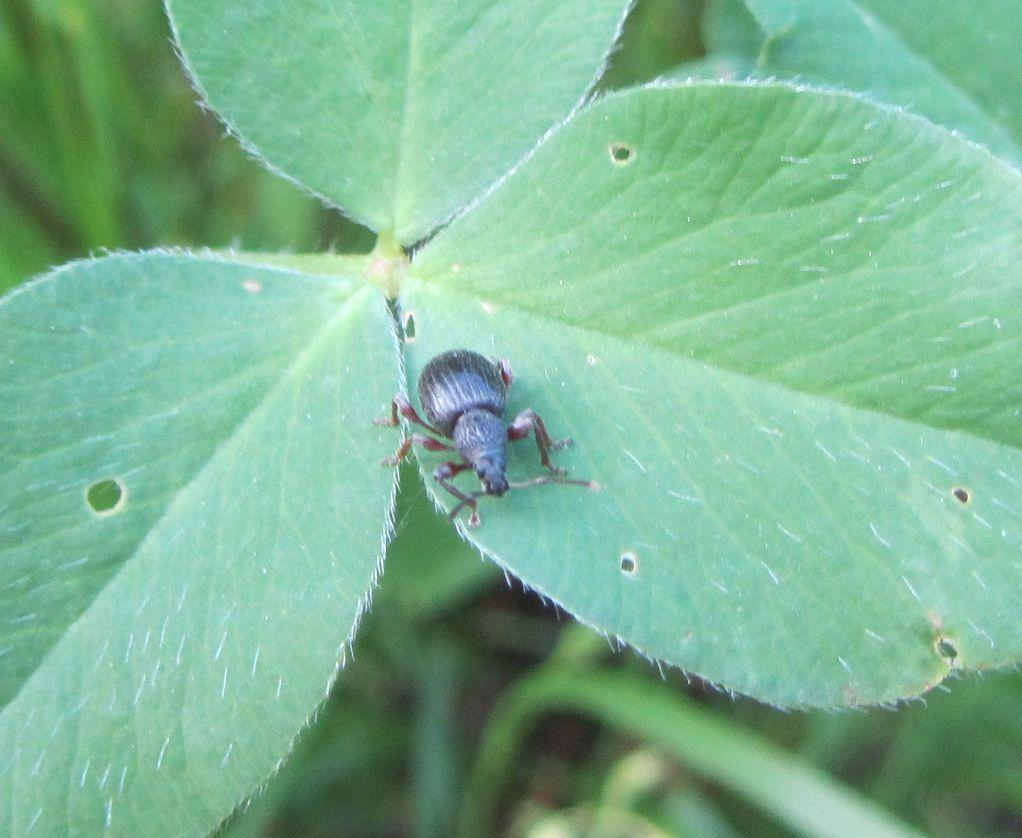weevils: (345, 299, 610, 561)
